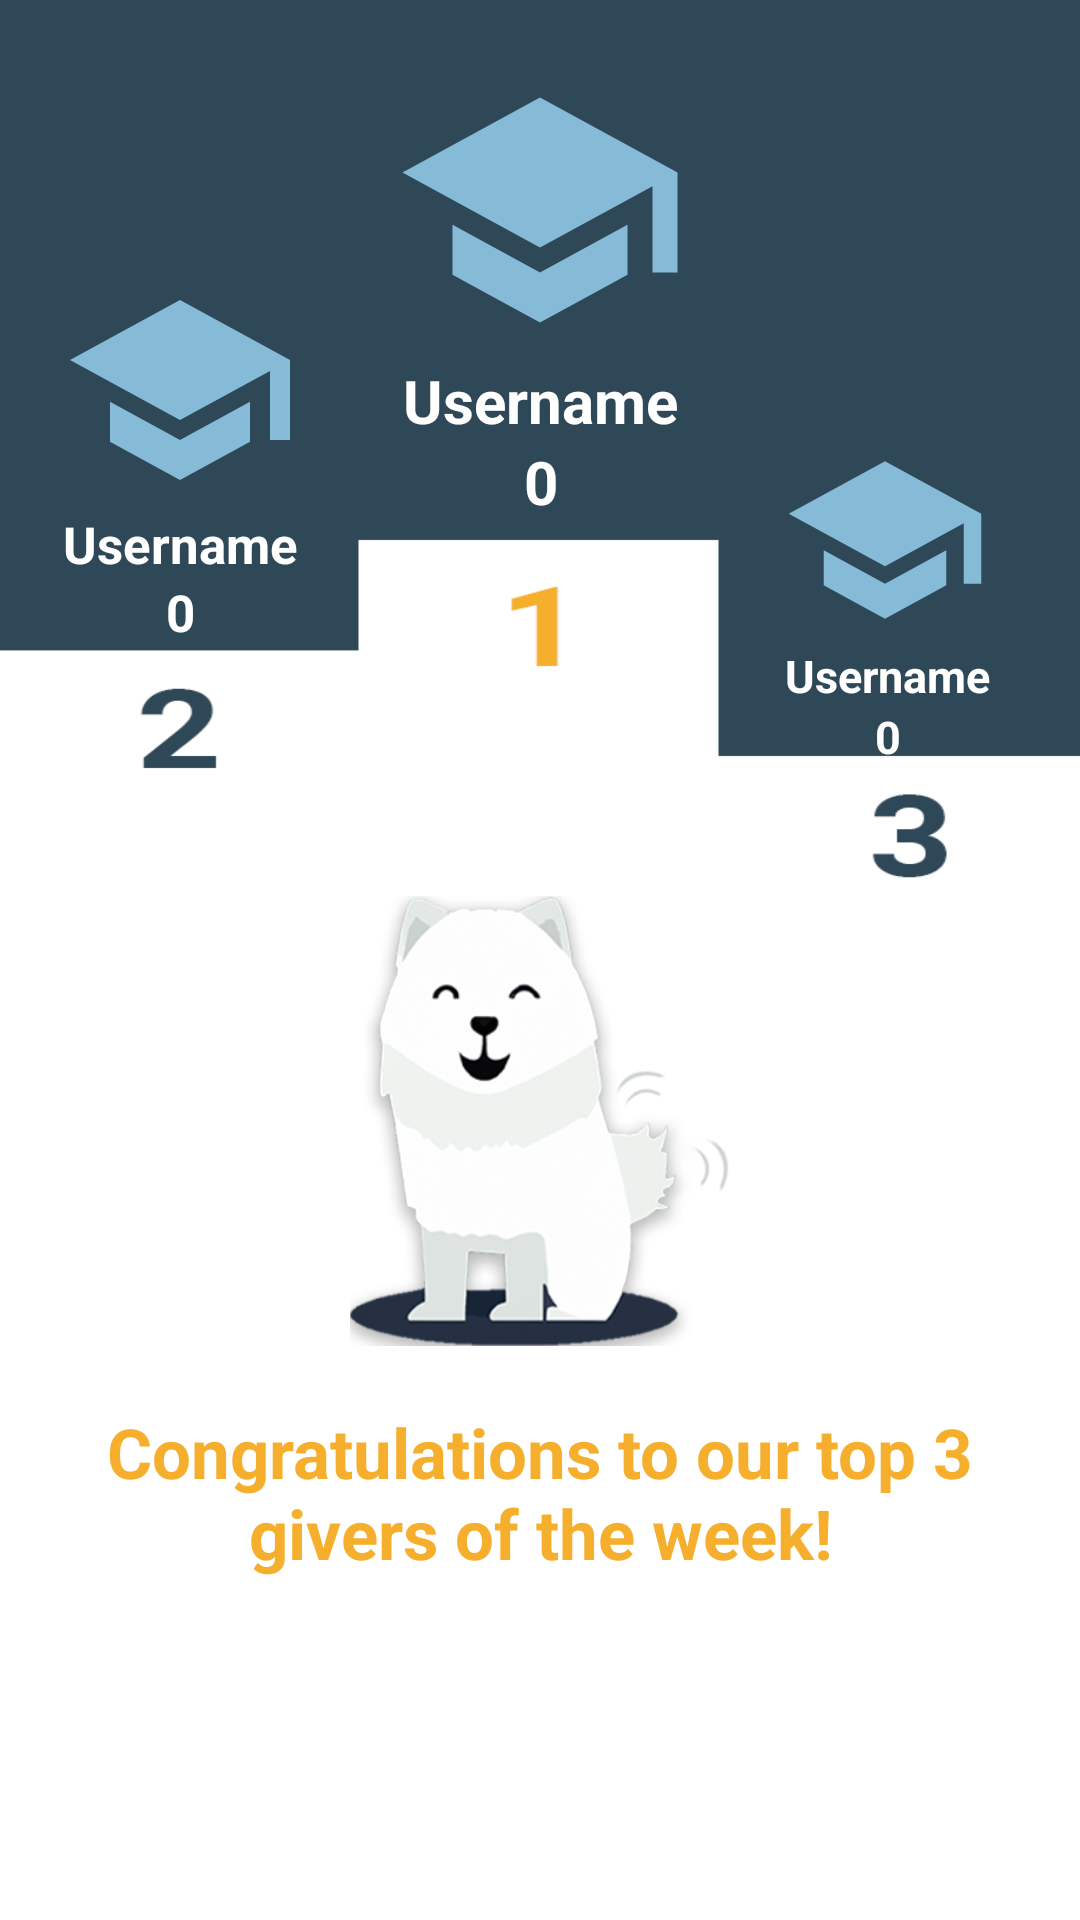

Icon bounding boxes for this 1080w x 1920h phone screenshot, format (x1, y1, x2, y2):
school: (403, 97, 678, 323), (70, 300, 290, 480), (789, 461, 982, 619)
